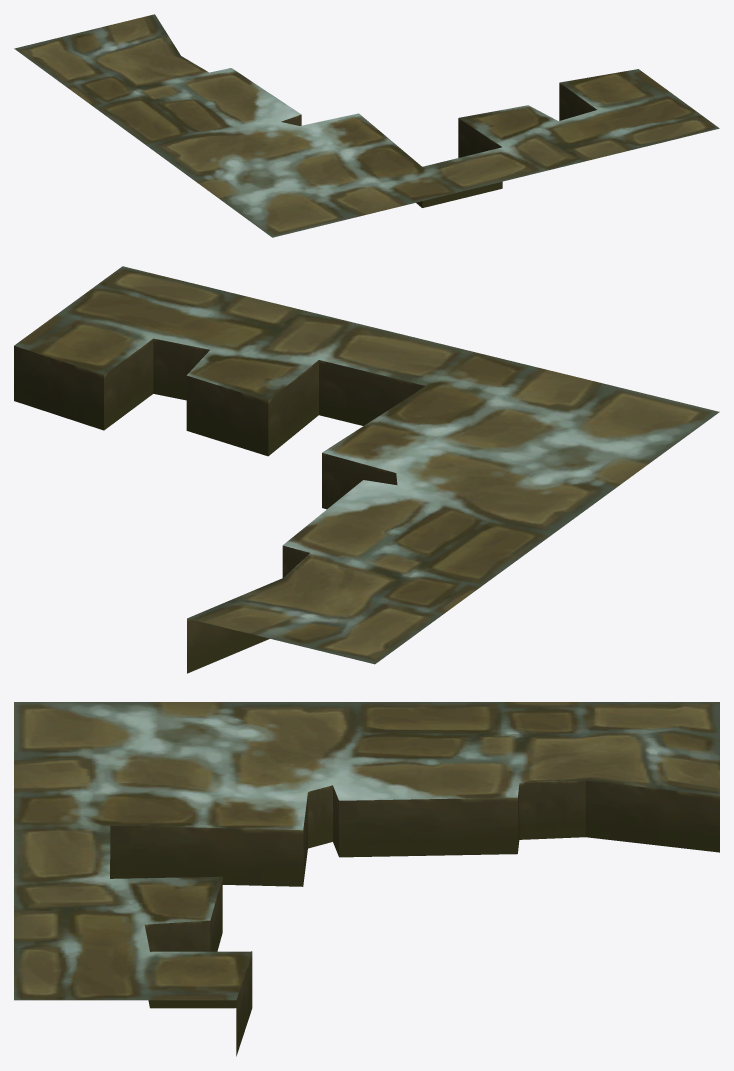
Rendered from tundra_floor_cobble_hole_04.fbx.
The picture shows the model from 3 angles, top to bottom: view 1: azimuth 30°, elevation 25°; view 2: azimuth 150°, elevation 25°; view 3: azimuth 270°, elevation 25°; orthographic projection. The views are drawn at different scales.
Visible parts, largest first — view 1: obj0.155; view 2: obj0.155; view 3: obj0.155.
Boxes of the visible parts, bbox=[...] form: obj0.155: bbox=[14, 14, 719, 237]; obj0.155: bbox=[14, 266, 719, 673]; obj0.155: bbox=[14, 702, 719, 1056].
Size of the model in its own units: 4 by 0.3539 by 4.
